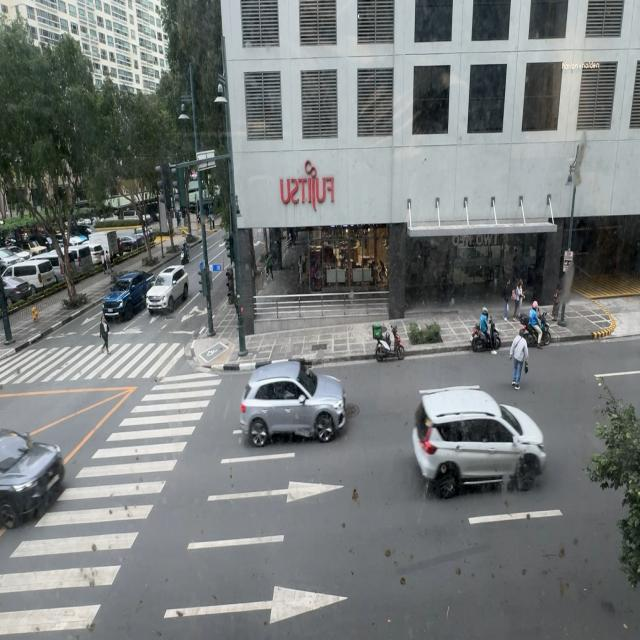waiting: (509, 327, 529, 389)
